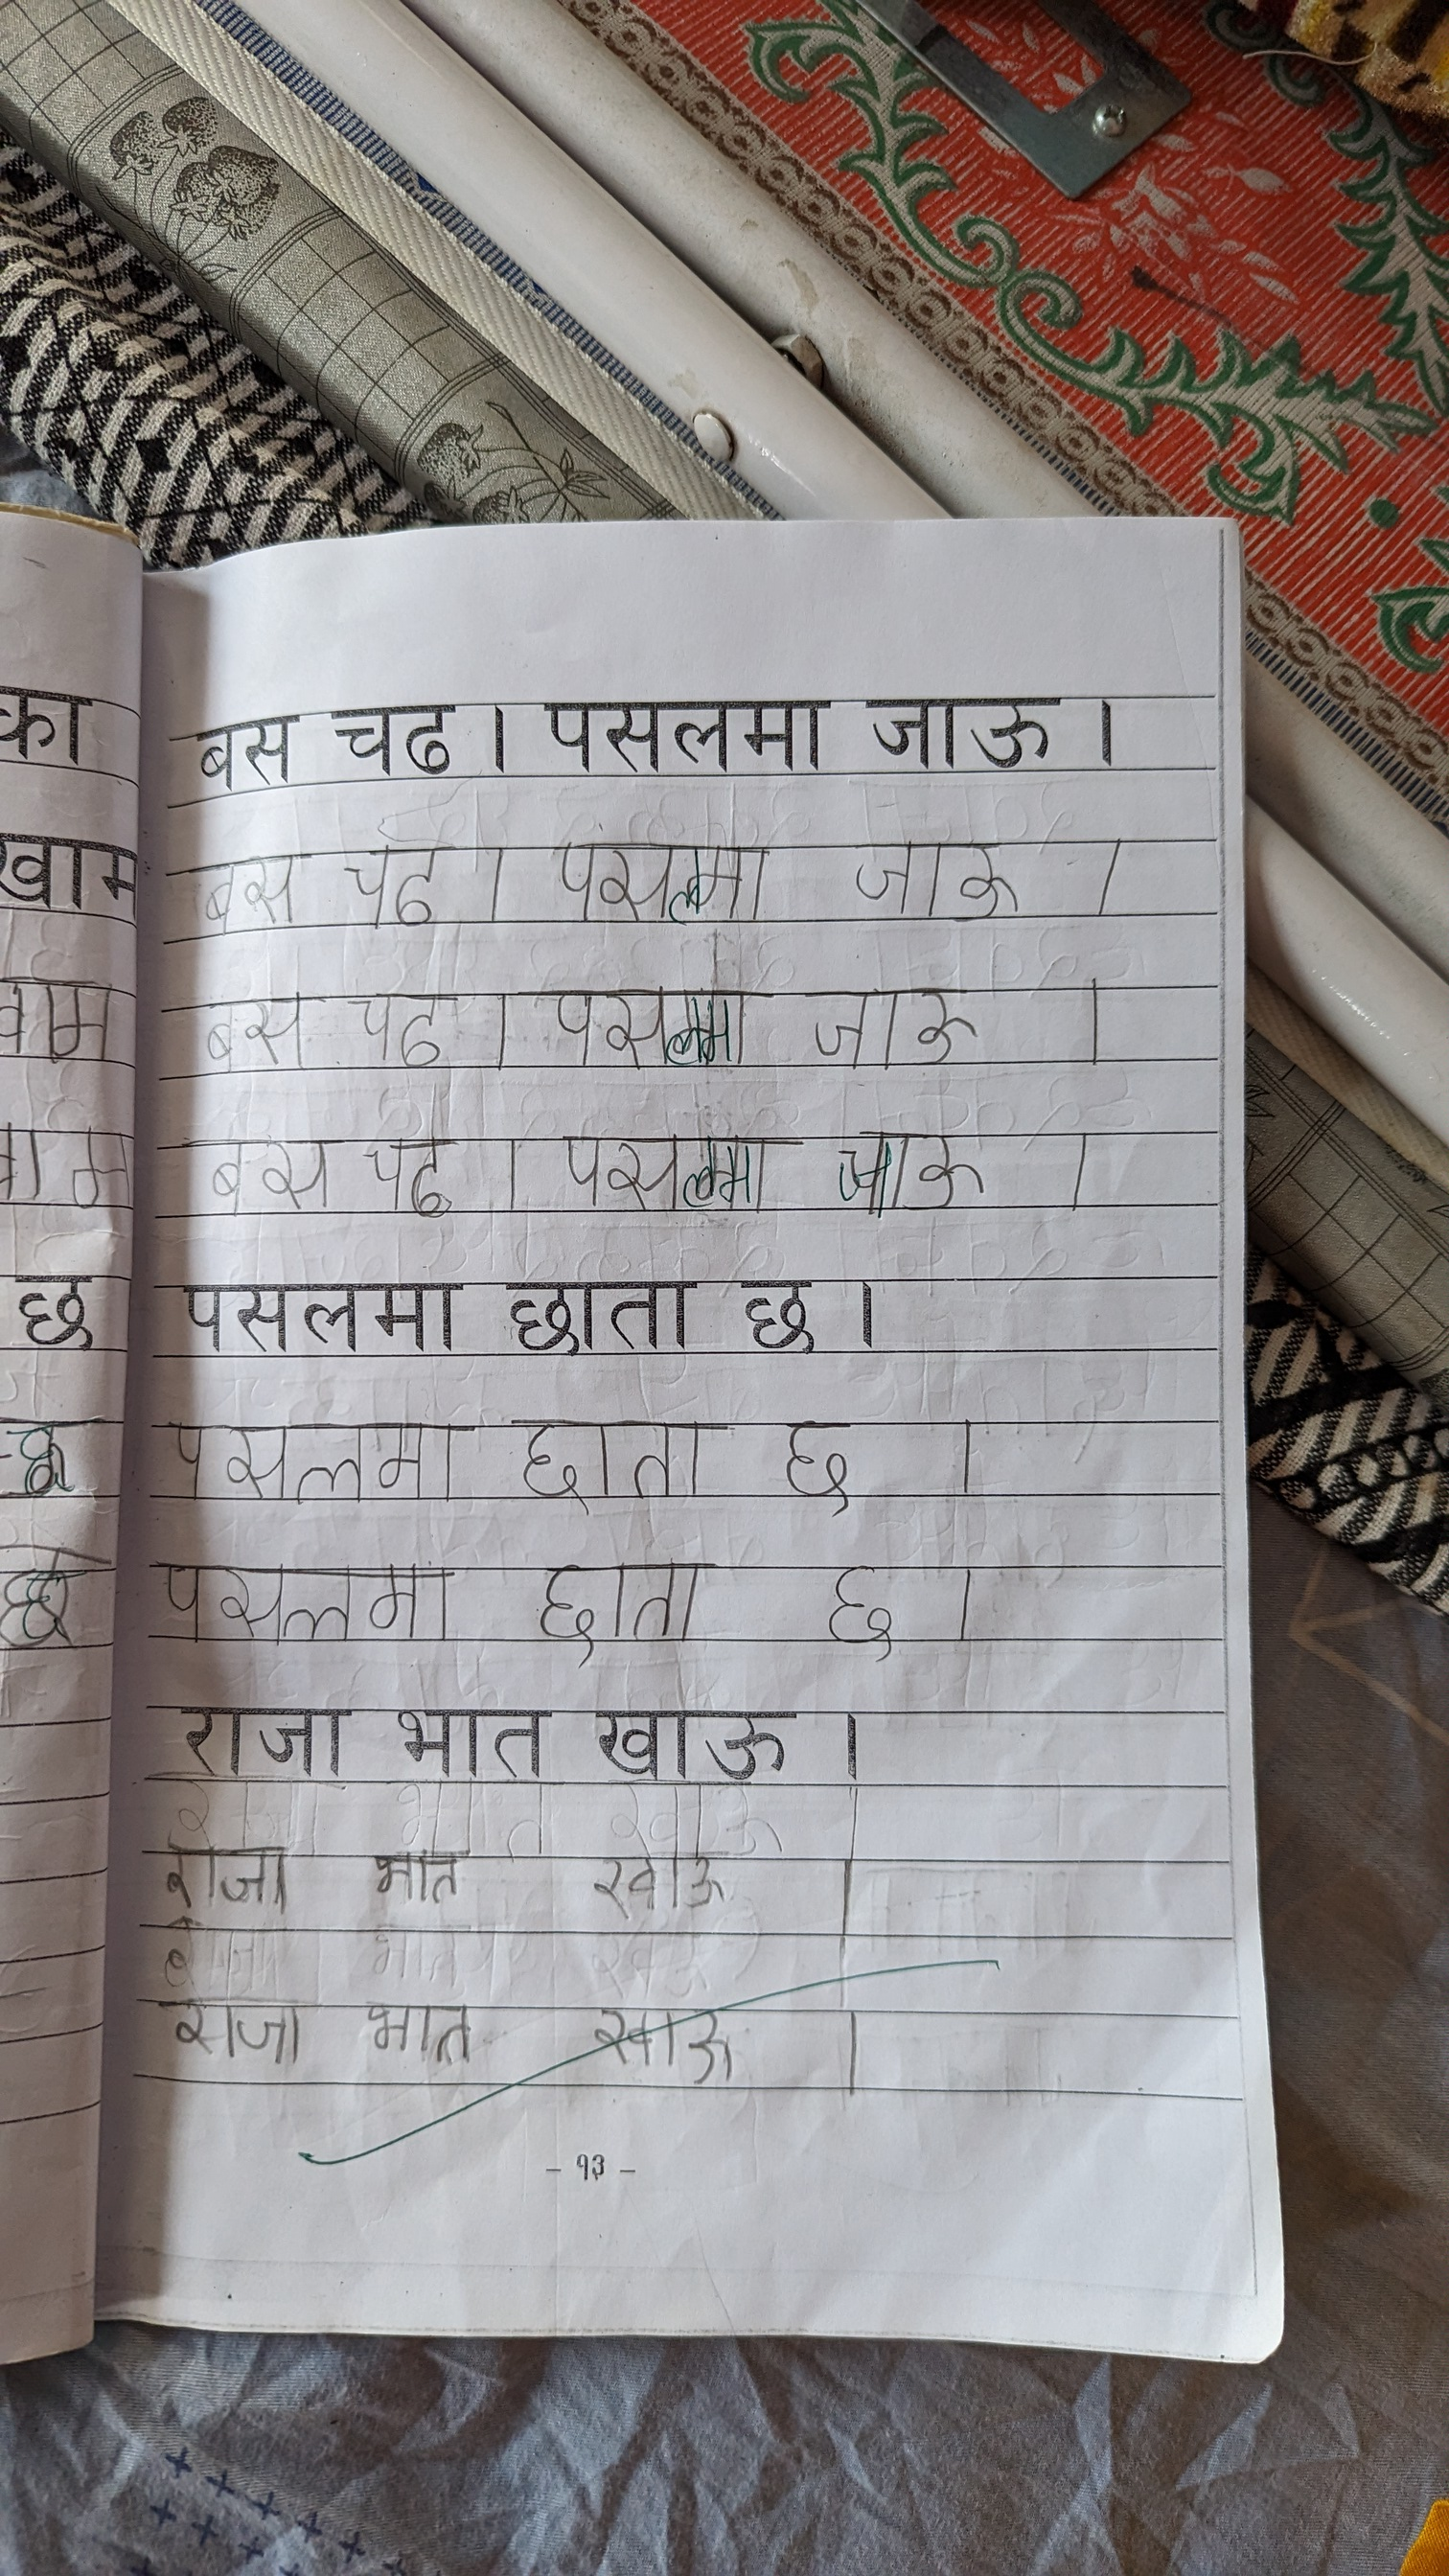text: (157, 1555, 464, 1645), (168, 1419, 467, 1506), (550, 840, 778, 934), (559, 1129, 787, 1215), (541, 985, 759, 1070), (513, 1415, 718, 1504), (536, 1560, 720, 1656), (849, 835, 1030, 929), (832, 1125, 993, 1224), (807, 987, 984, 1065), (154, 1836, 299, 1928), (589, 2001, 734, 2089), (159, 1992, 311, 2072), (577, 1852, 740, 1923), (205, 1134, 338, 1217), (352, 1996, 479, 2074), (336, 839, 446, 929), (359, 1134, 465, 1226), (179, 860, 308, 934), (349, 984, 455, 1072), (193, 998, 317, 1072), (819, 1560, 915, 1654), (780, 1414, 863, 1516), (370, 1849, 465, 1904)
